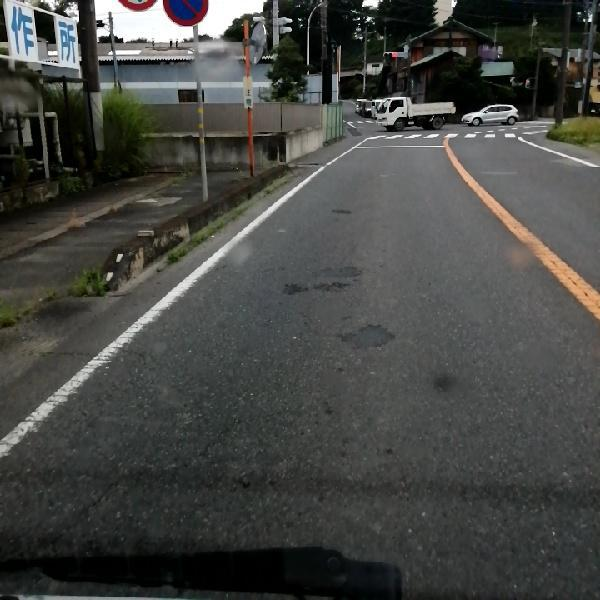D00: (31, 471, 128, 550)
D10: (40, 340, 149, 367)
